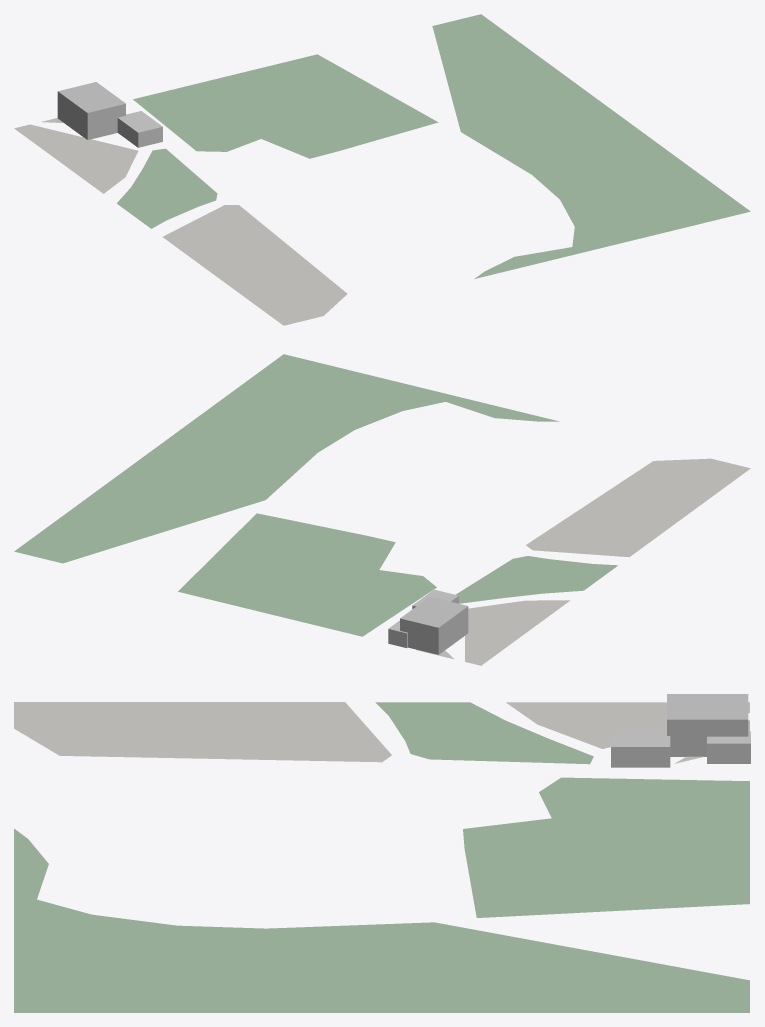
Rendered from 93_105_mid.glb.
The picture shows the model from 3 angles, top to bottom: view 1: azimuth 30°, elevation 25°; view 2: azimuth 150°, elevation 25°; view 3: azimuth 270°, elevation 25°; orthographic projection. The views are drawn at different scales.
Bounding box in the file's own units: 500 × 27.8 × 501.
